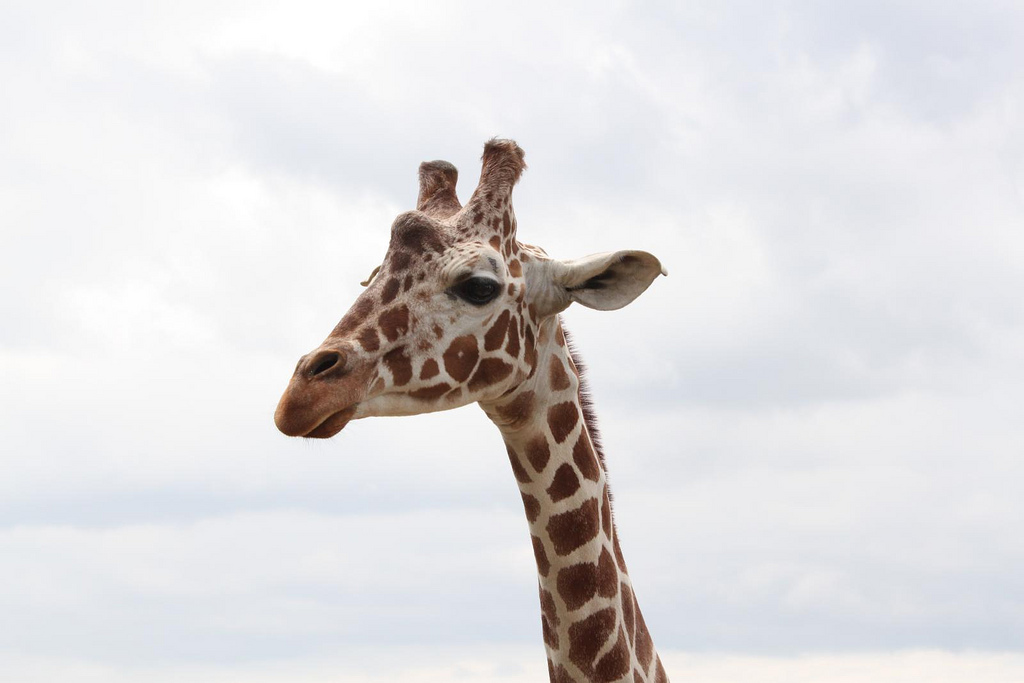giraffe: (267, 119, 750, 648)
